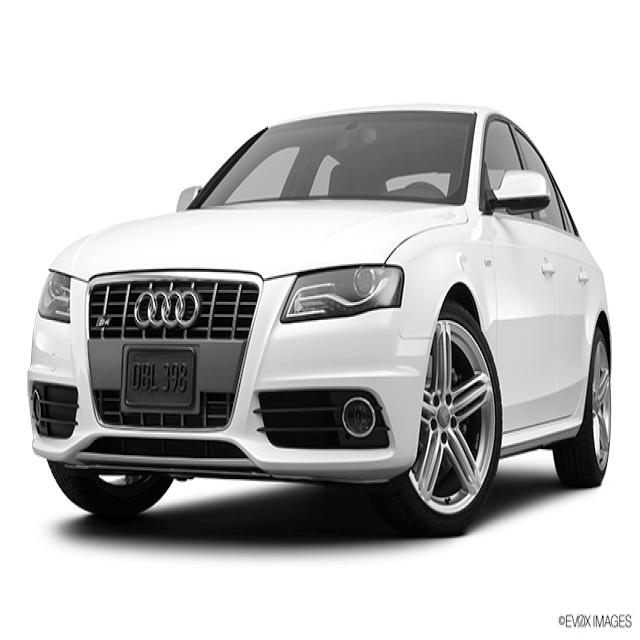car: (27, 102, 612, 536)
plat_license: (124, 345, 196, 409)
